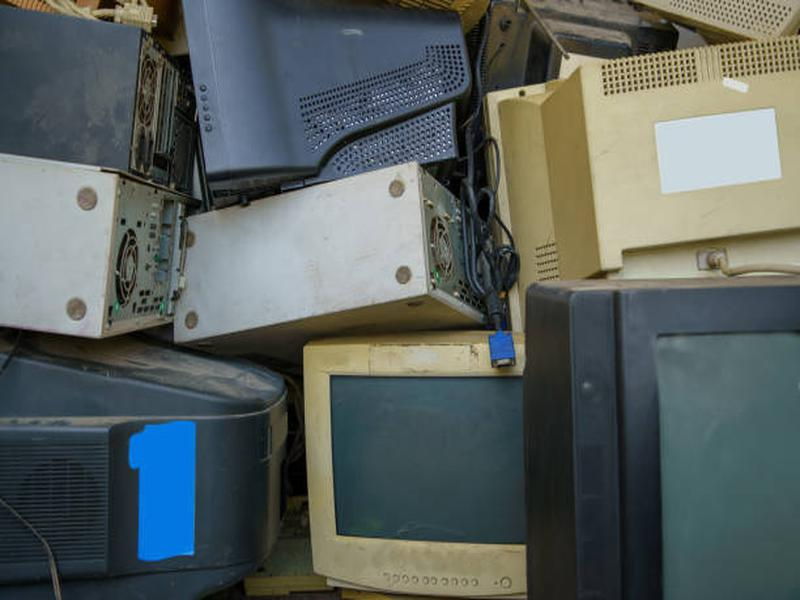tv_pc: (478, 33, 800, 288), (295, 331, 557, 600), (164, 1, 477, 208)
